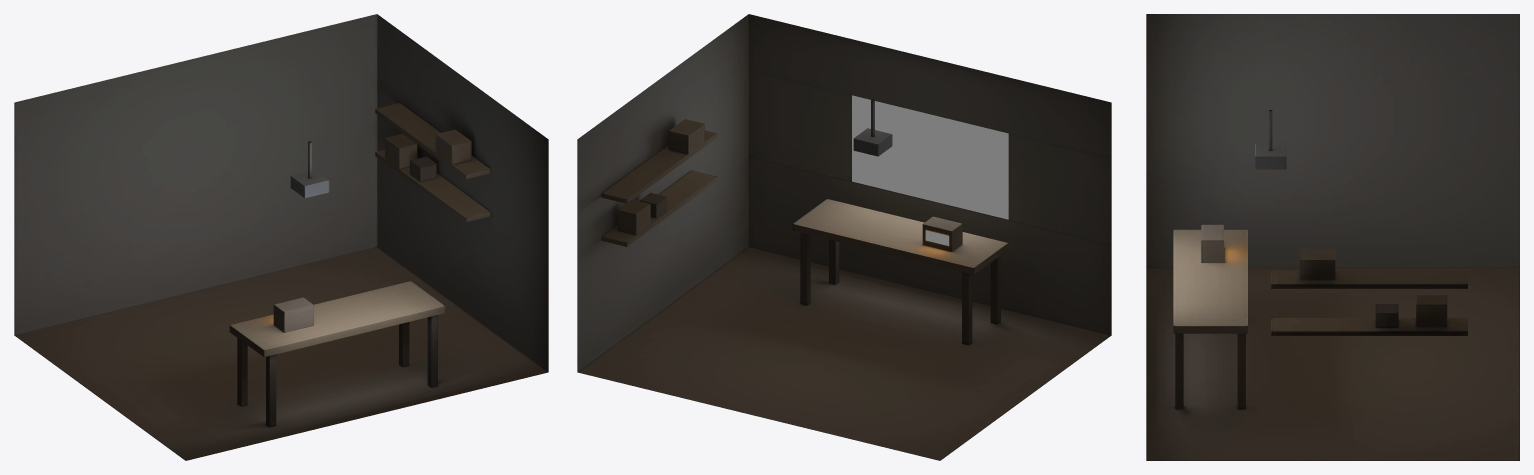
File: hub.glb
The picture shows the model from 3 angles, left to right: view 1: azimuth 30°, elevation 25°; view 2: azimuth 150°, elevation 25°; view 3: azimuth 270°, elevation 25°; orthographic projection. The views are drawn at different scales.
Parts seen in each view (by area): view 1: CH_hub_static, GATE_radio; view 2: CH_hub_static, GATE_radio; view 3: CH_hub_static, GATE_radio.
Boxes of the visible parts, x1,y1,x2,y2 form: CH_hub_static: (14, 14, 548, 460); GATE_radio: (273, 297, 313, 332); CH_hub_static: (577, 14, 1111, 460); GATE_radio: (922, 216, 962, 251); CH_hub_static: (1146, 14, 1519, 460); GATE_radio: (1201, 224, 1223, 262).
Bounding box in the file's own units: 4.4 × 2.7 × 3.66.
Materials: 1 (1 with a texture image).
